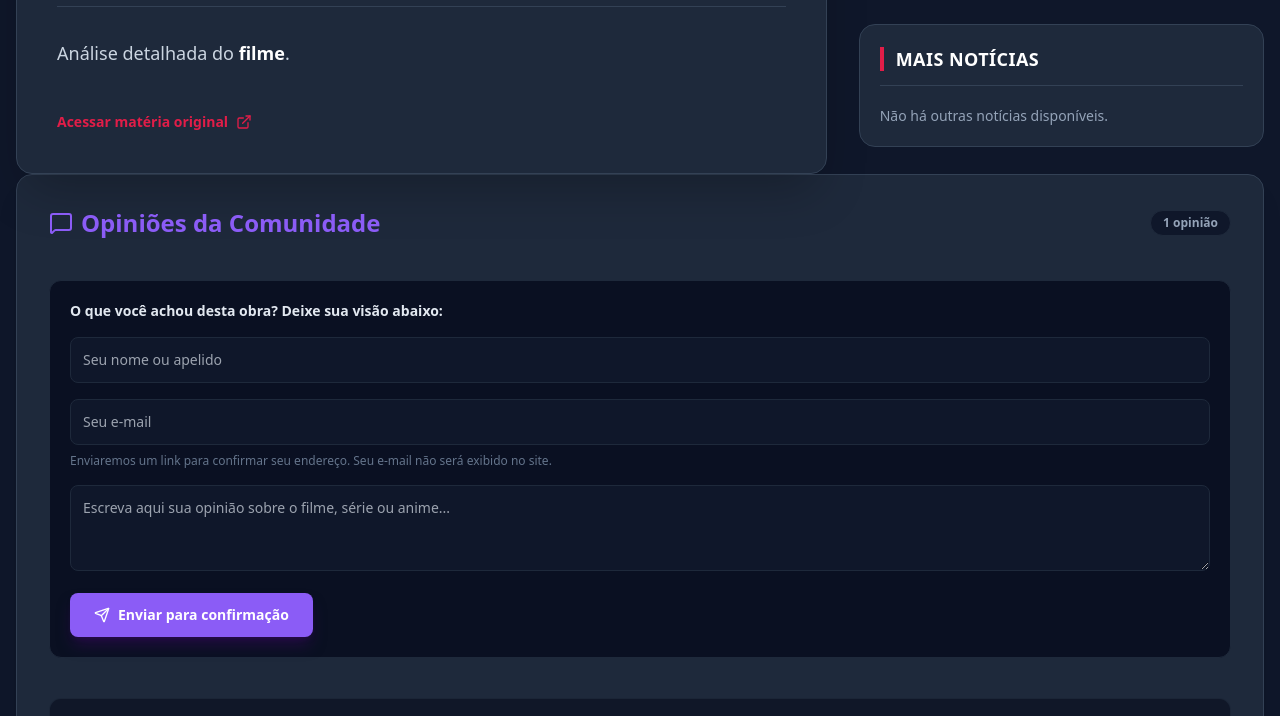
Test case: Página ArticleDetail › deve permitir que o leitor preencha e envie uma nova opinião com feedback de sucesso
(page scrolled)
Type "Nezuko" into the field with placeholder "Seu nome ou apelido" at (640, 360), box [70, 337, 1210, 383]
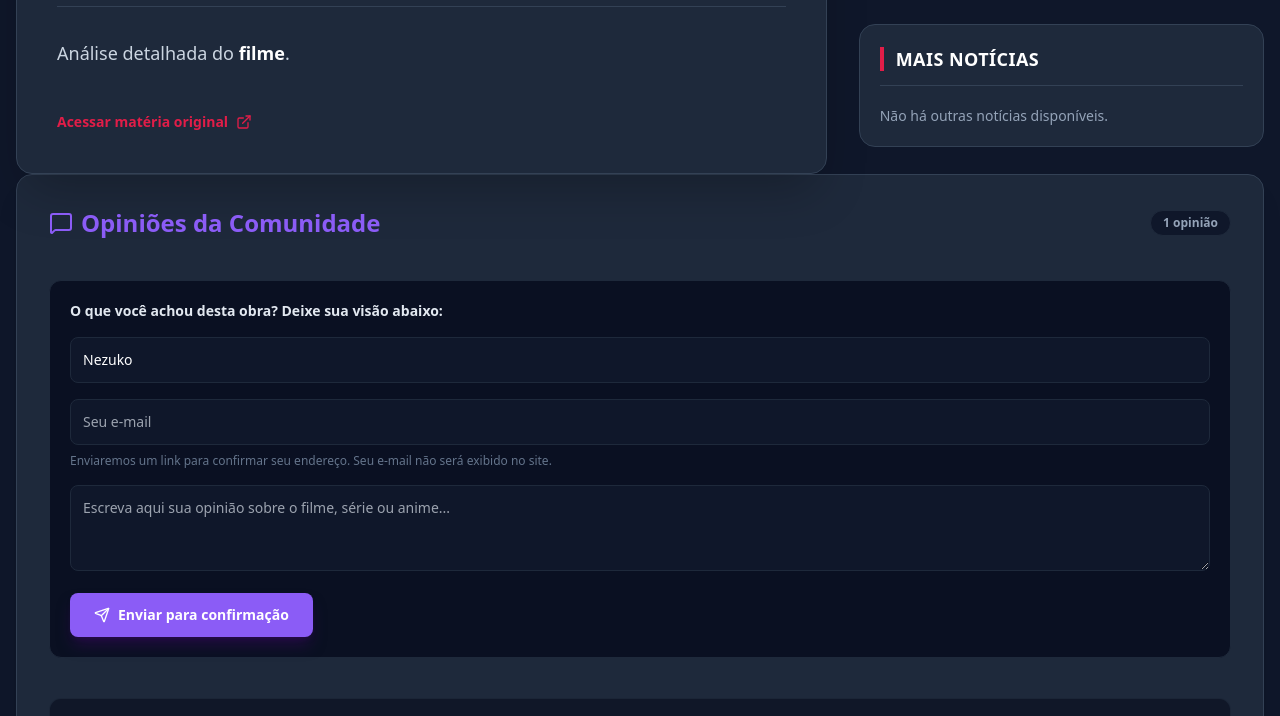
Type "nezuko@example.com" into the field with placeholder "Seu e-mail" at (640, 422), box [70, 399, 1210, 445]
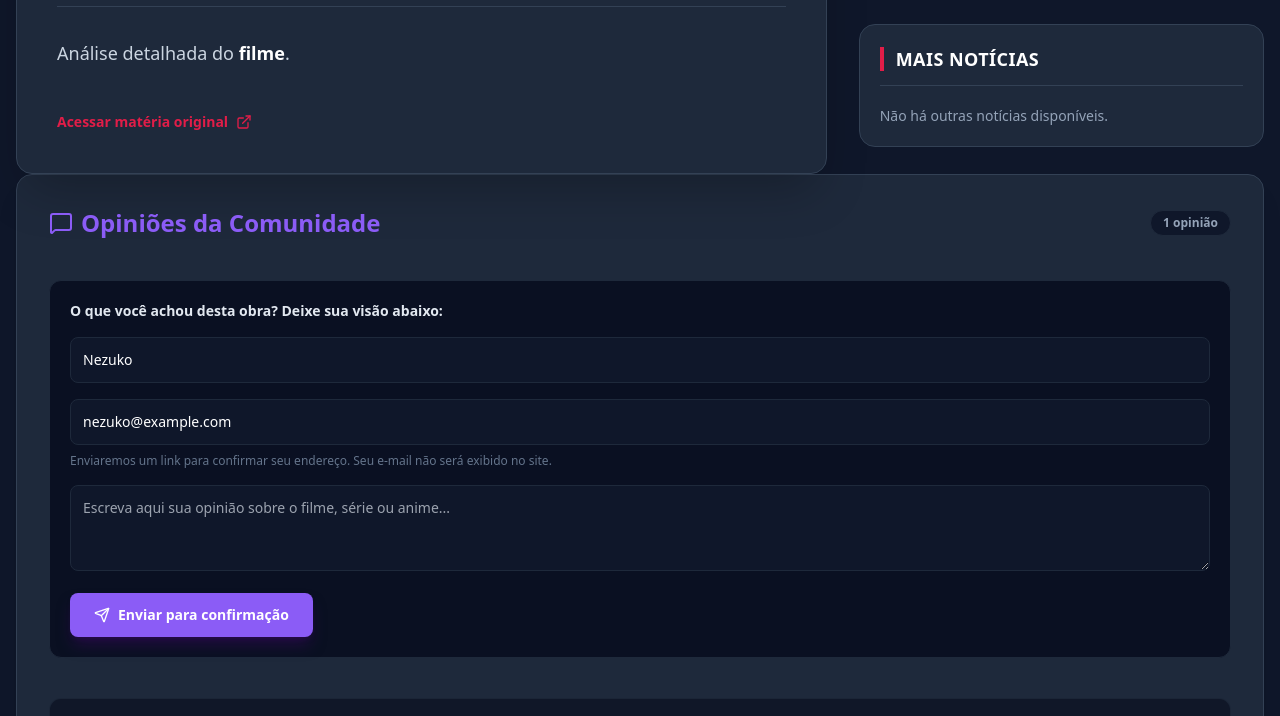
Type "A animação deste filme foi nota 10!" into the text box with placeholder "Escreva aqui sua opinião sobre o filme, série ou anime..." at (640, 528), box [70, 485, 1210, 571]
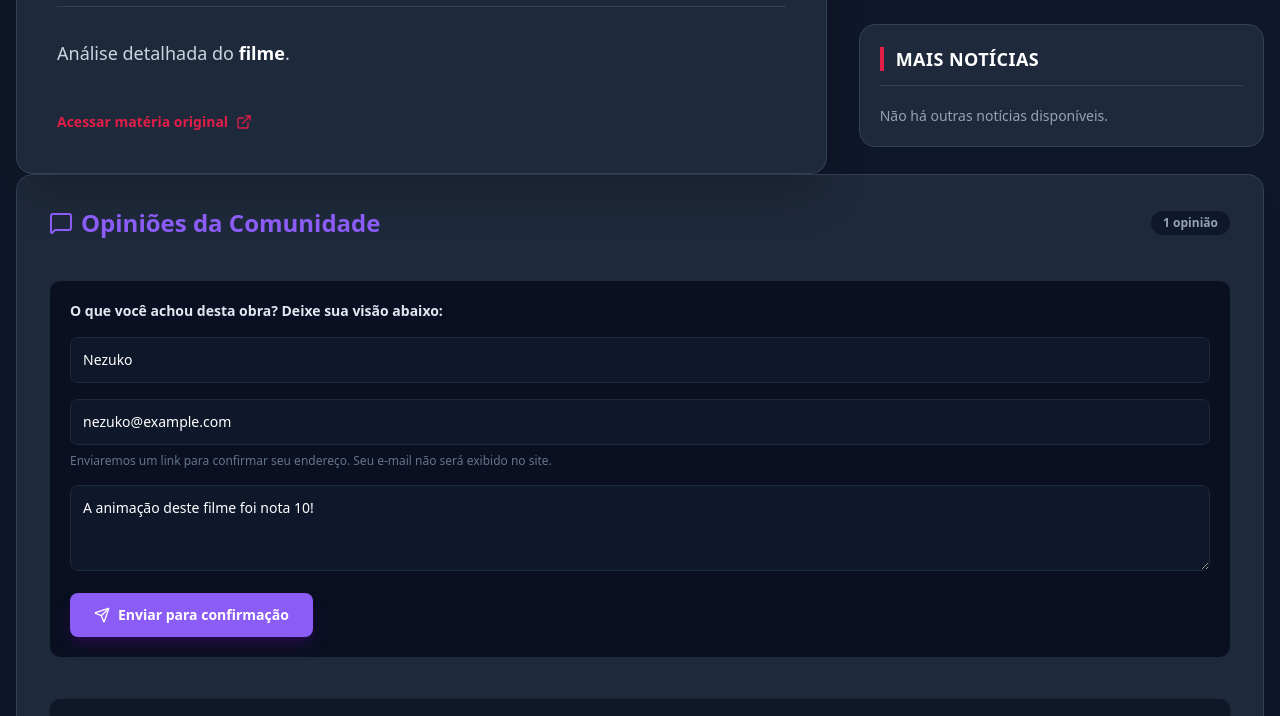
# Clica para enviar
Click the button "Enviar para confirmação" at (191, 615), box [70, 593, 313, 637]
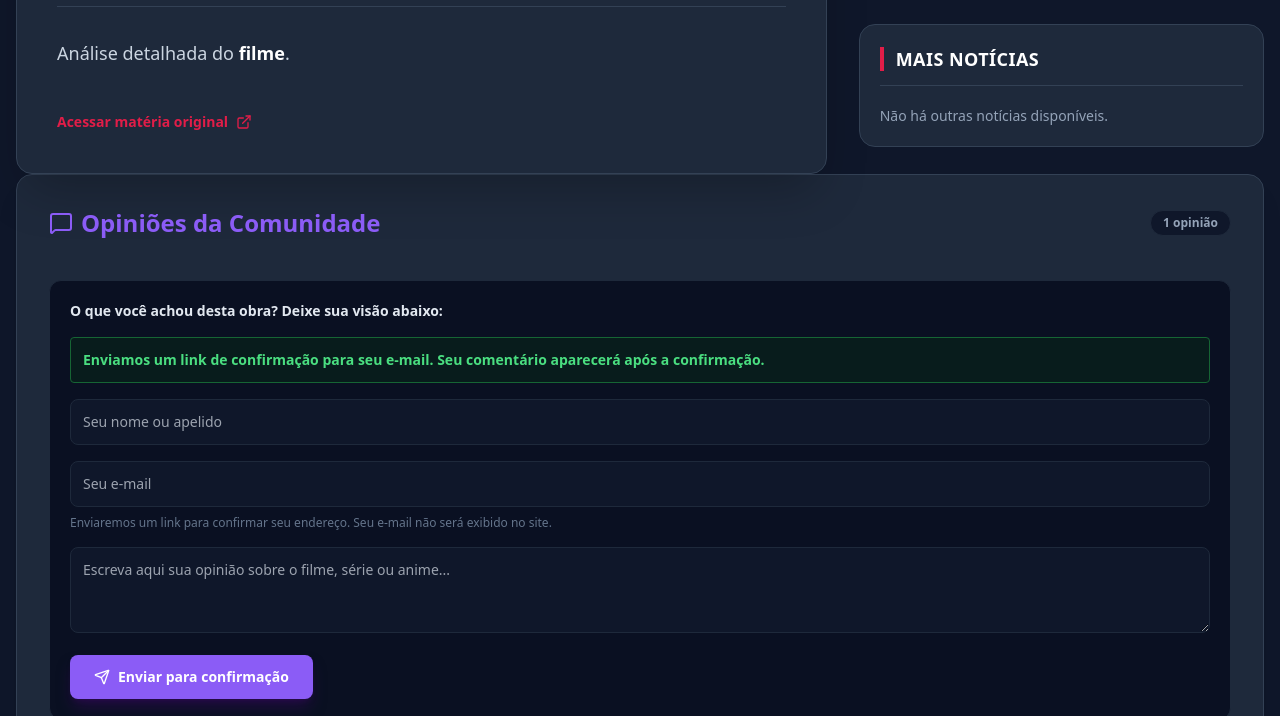
Result: the message shows "link de confirmação para seu e-mail" at [83, 350, 765, 369]
